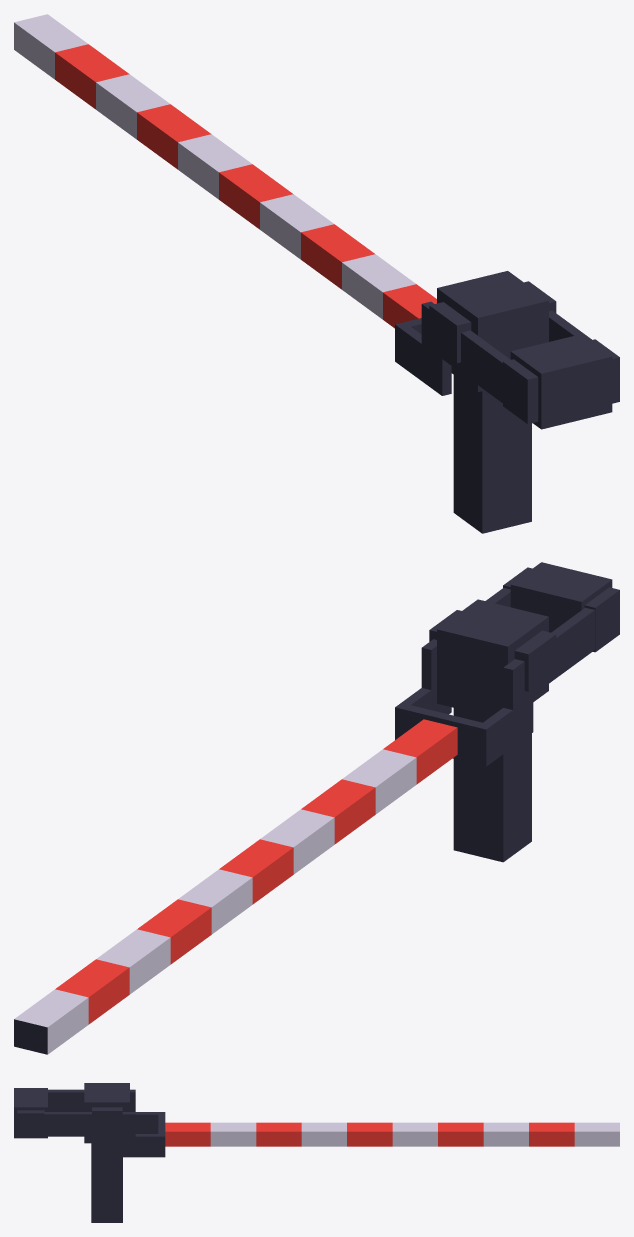
The model's file is palang_kereta.fbx.
3 renders of one model, top to bottom at view 1: azimuth 30°, elevation 25°; view 2: azimuth 150°, elevation 25°; view 3: azimuth 270°, elevation 25°, orthographic. The views are drawn at different scales.
Visible parts, largest first — view 1: Cube.092; view 2: Cube.092; view 3: Cube.092.
Boxes of the visible parts, box(x1,y1,x2,y2) form: Cube.092: box(14, 14, 619, 533); Cube.092: box(14, 562, 619, 1054); Cube.092: box(14, 1083, 619, 1222).
Bounding box in the file's own units: 140 × 300 × 1333.
Materials: 1 (1 with a texture image).
